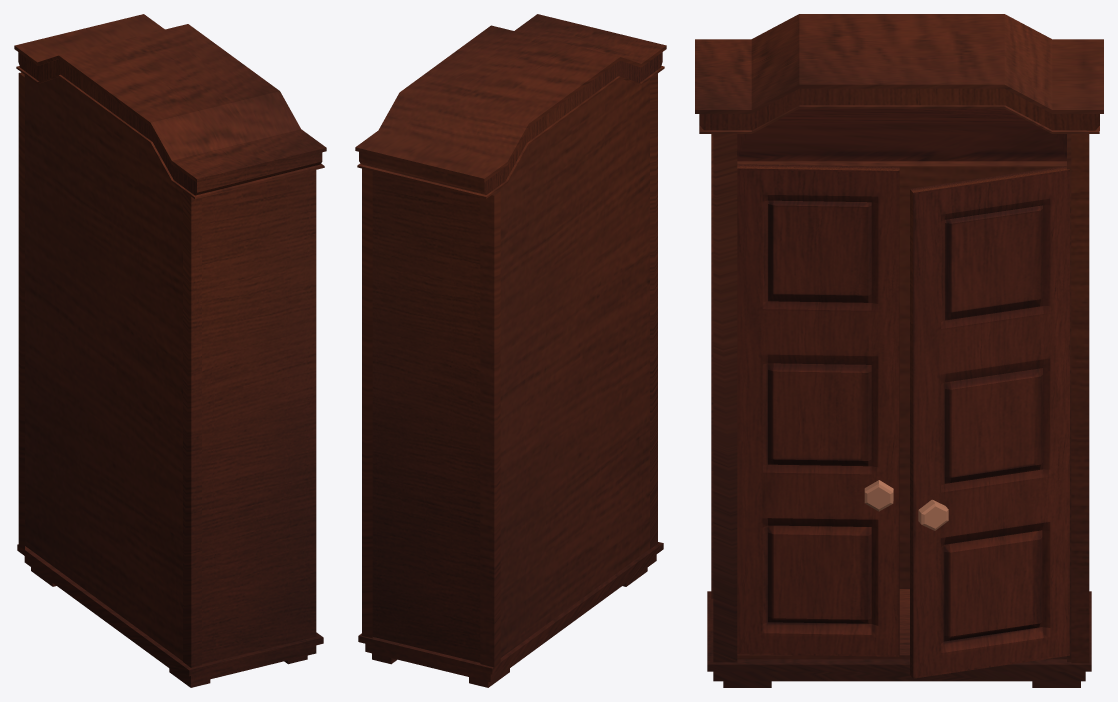
Rendered from Cupboard.fbx.
The picture shows the model from 3 angles, left to right: view 1: azimuth 30°, elevation 25°; view 2: azimuth 150°, elevation 25°; view 3: azimuth 270°, elevation 25°; orthographic projection. The views are drawn at different scales.
Parts seen in each view (by area): view 1: Cube.097; view 2: Cube.097; view 3: Cube.097, Cube.104, Cube.098, Cube.103, Cube.100.
Part boxes in pixels (<box>): Cube.097: <box>14,14,326,687</box>; Cube.097: <box>355,14,666,687</box>; Cube.097: <box>695,14,1103,687</box>; Cube.104: <box>737,164,899,656</box>; Cube.098: <box>910,166,1069,678</box>; Cube.103: <box>864,480,893,511</box>; Cube.100: <box>918,499,948,530</box>.
Bounding box in the file's own units: 292 × 825 × 504.
4 materials, 3 textured.
